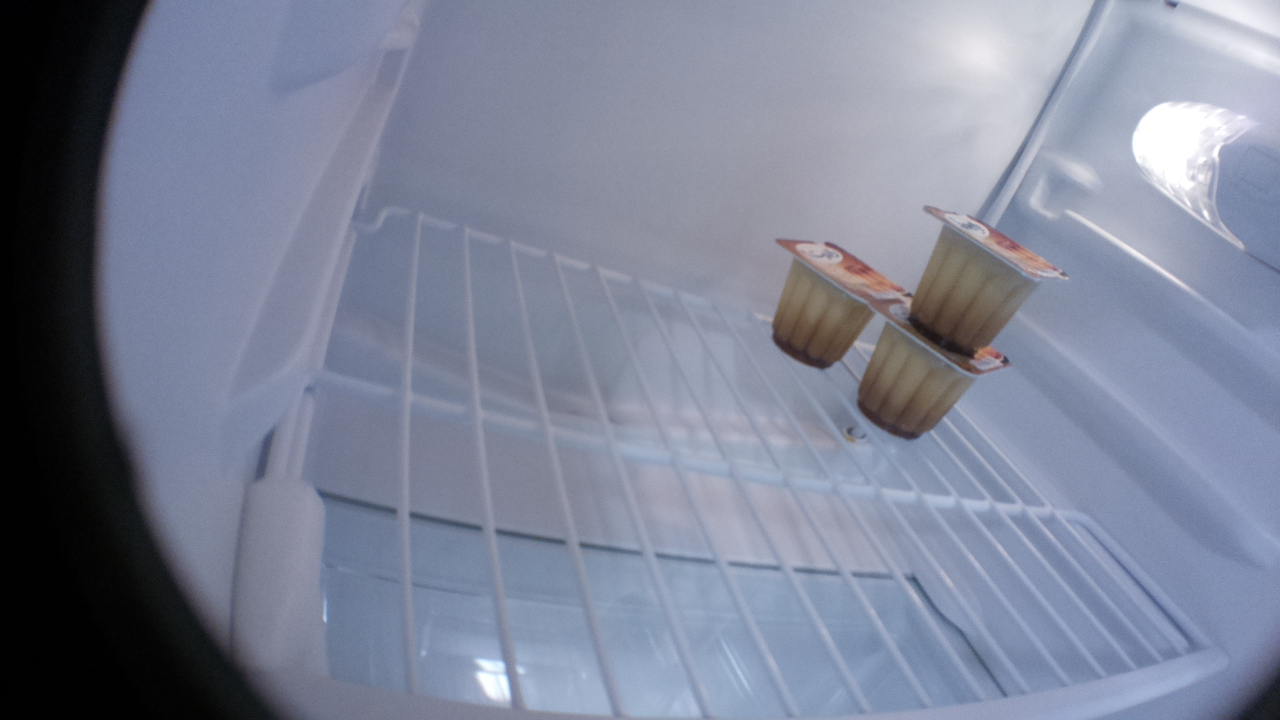caramel: (908, 201, 1073, 354), (860, 293, 1014, 440), (770, 234, 882, 369)
